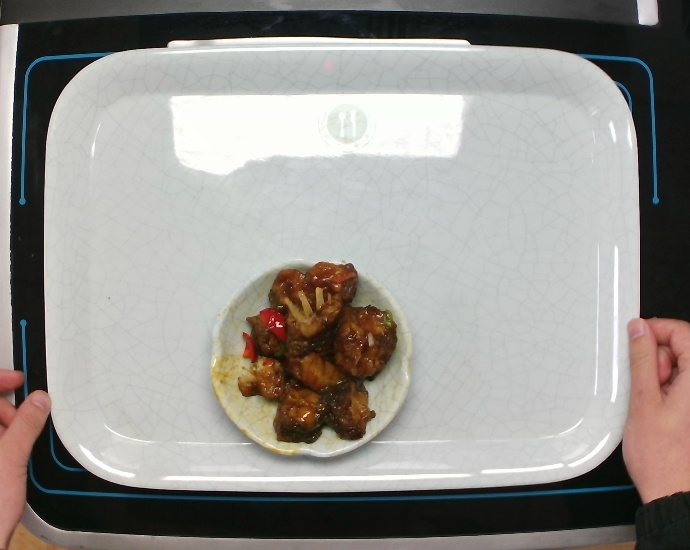JYsf-Ao_Yuan_Wan: (200, 247, 415, 465)
